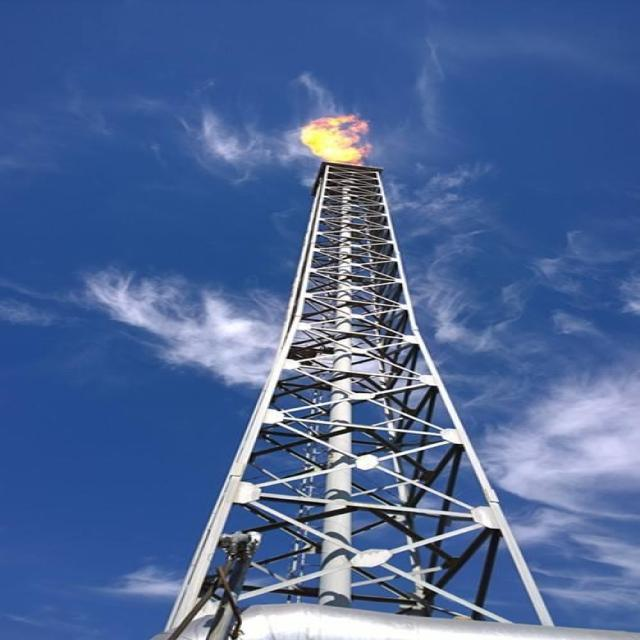Fire: (297, 115, 374, 168)
Smoke: (384, 156, 640, 616), (78, 266, 288, 386), (175, 67, 343, 186), (89, 564, 184, 598)
